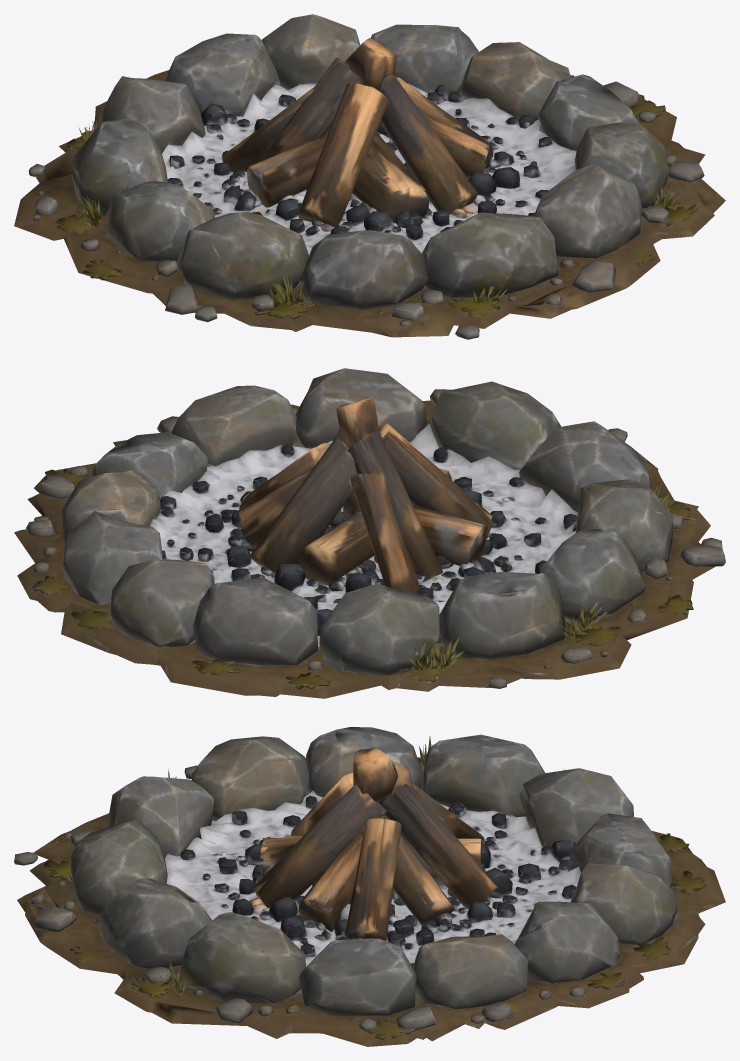
File: campfire.glb
3 renders of one model, top to bottom at view 1: azimuth 30°, elevation 25°; view 2: azimuth 150°, elevation 25°; view 3: azimuth 270°, elevation 25°, orthographic. The views are drawn at different scales.
Visible parts, largest first — view 1: Stone campfire · canonical metres; view 2: Stone campfire · canonical metres; view 3: Stone campfire · canonical metres.
Part boxes in pixels (box(x1,y1,x2,y2)): Stone campfire · canonical metres: box(14, 14, 725, 339); Stone campfire · canonical metres: box(14, 368, 725, 698); Stone campfire · canonical metres: box(14, 727, 725, 1046).
Bounding box in the file's own units: 3.2 × 0.7501 × 3.23.
Materials: 1 (1 with a texture image).
